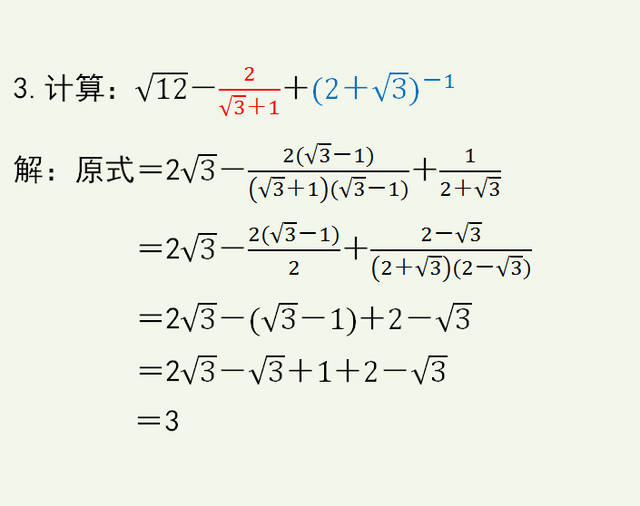division: (368, 244, 536, 256), (248, 166, 409, 175), (246, 244, 341, 259), (218, 84, 286, 94), (438, 168, 503, 178)
sqrt: (436, 297, 473, 340), (135, 71, 188, 101), (180, 296, 220, 335), (249, 353, 287, 390), (412, 353, 450, 389), (180, 152, 219, 187), (183, 351, 219, 388), (374, 68, 408, 104), (182, 230, 218, 264), (264, 301, 297, 334), (495, 254, 527, 282), (215, 92, 246, 119), (256, 174, 288, 200), (454, 219, 484, 246), (475, 174, 502, 203), (304, 139, 332, 164), (340, 174, 365, 201), (418, 254, 445, 279), (272, 220, 298, 244)
